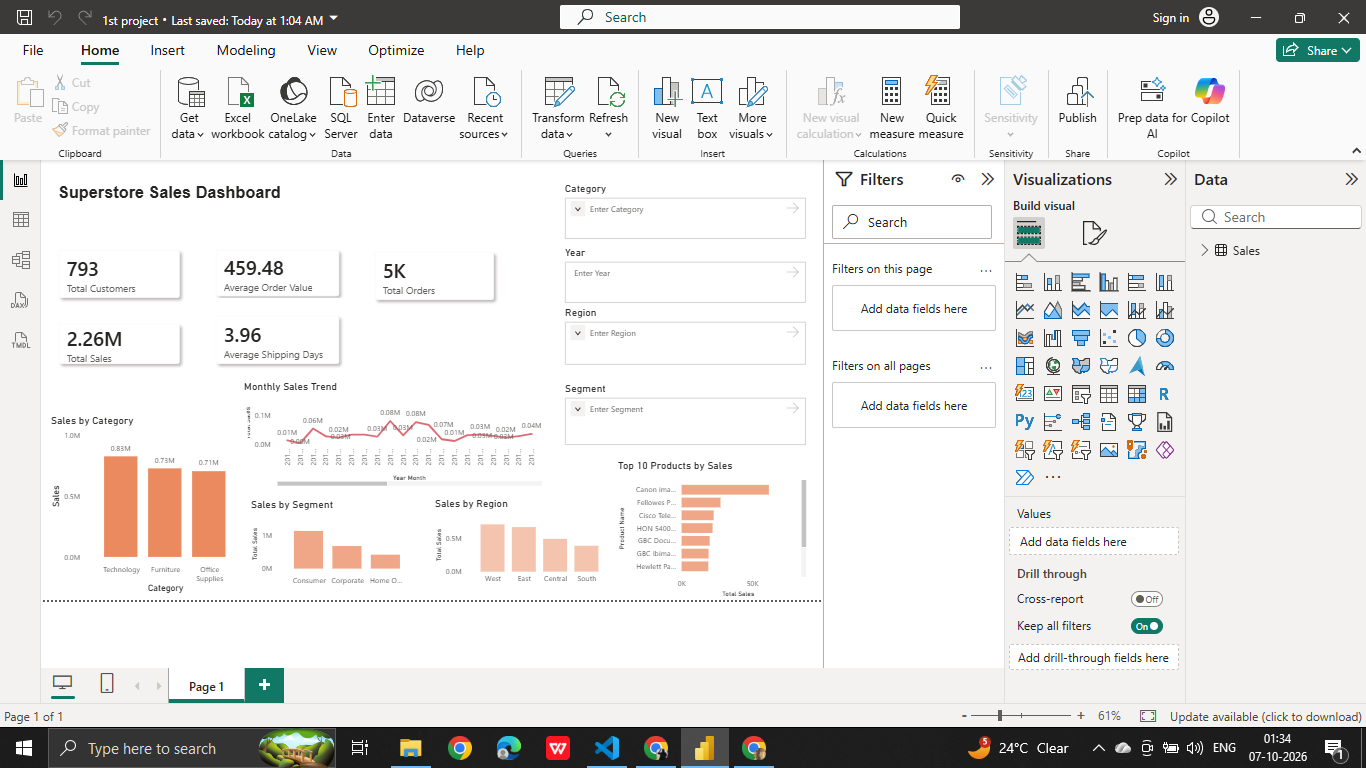

What the dashboard file says about the page in this screenshot:
{"tool":"powerbi","page":{"name":"Page 1","canvas":[1280,720],"ordinal":0},"visuals":[{"type":"cardVisual","fields":{"Data":["Sales.Total Sales"]},"box":[0,239,257,124.4],"z":0},{"type":"cardVisual","fields":{"Data":["Sales.Total Customers"]},"box":[0,117.9,257,137.5],"z":1000},{"type":"cardVisual","fields":{"Data":["Sales.Average Order Value"]},"box":[257,117.9,260.3,134.2],"z":2000},{"type":"cardVisual","fields":{"Data":["Sales.Average Shipping Days"]},"box":[257,225.9,260.3,137.5],"z":3000},{"type":"cardVisual","fields":{"Data":["Sales.Total Orders"]},"box":[517.2,121.1,253.7,137.5],"z":4000},{"type":"lineChart","title":"Monthly Sales Trend","fields":{"Category":["Sales.Year Month"],"Y":["Sales.Total Sales"]},"box":[327.4,360.1,497.6,178.4],"z":5000},{"type":"clusteredColumnChart","title":"Sales by Category","fields":{"Category":["Sales.Category"],"Y":["Sales.Total Sales"]},"box":[11.5,415.8,327.4,297.9],"z":6000},{"type":"clusteredColumnChart","title":"Sales by Region","fields":{"Category":["Sales.Region"],"Y":["Sales.Total Sales"]},"box":[640,551.6,299.5,152.2],"z":7000},{"type":"clusteredBarChart","title":"Top 10 Products by Sales","fields":{"Category":["Sales.Product Name"],"Y":["Sales.Total Sales"]},"box":[939.5,489.4,317.5,230.8],"z":8000},{"type":"clusteredColumnChart","title":"Sales by Segment","fields":{"Category":["Sales.Segment"],"Y":["Sales.Total Sales"]},"box":[338.8,553.2,281.5,150.6],"z":9000},{"type":"textSlicer","fields":{"Values":["Sales.Year"]},"box":[852.8,140.8,404.3,98.2],"z":10000},{"type":"textSlicer","fields":{"Values":["Sales.Region"]},"box":[852.8,239,404.3,101.5],"z":11000},{"type":"textSlicer","fields":{"Values":["Sales.Category"]},"box":[852.8,36,404.3,98.2],"z":12000},{"type":"textSlicer","fields":{"Values":["Sales.Segment"]},"box":[852.8,363.4,404.3,108],"z":13000},{"type":"textbox","box":[22.9,32.7,597.4,52.4],"z":14000}]}

Visuals, with their boxes on the page's 1280x720 design canvas (x1, y1, x2, y2). These are canvas units, not pixel positions in the 1366x768 screenshot, which may show the page scaled, cropped or inside an application window:
cardVisual - Sales.Total Sales: locate(0, 239, 257, 363)
cardVisual - Sales.Total Customers: locate(0, 118, 257, 255)
cardVisual - Sales.Average Order Value: locate(257, 118, 517, 252)
cardVisual - Sales.Average Shipping Days: locate(257, 226, 517, 363)
cardVisual - Sales.Total Orders: locate(517, 121, 771, 259)
"Monthly Sales Trend" lineChart: locate(327, 360, 825, 538)
"Sales by Category" clusteredColumnChart: locate(12, 416, 339, 714)
"Sales by Region" clusteredColumnChart: locate(640, 552, 940, 704)
"Top 10 Products by Sales" clusteredBarChart: locate(940, 489, 1257, 720)
"Sales by Segment" clusteredColumnChart: locate(339, 553, 620, 704)
textSlicer - Sales.Year: locate(853, 141, 1257, 239)
textSlicer - Sales.Region: locate(853, 239, 1257, 340)
textSlicer - Sales.Category: locate(853, 36, 1257, 134)
textSlicer - Sales.Segment: locate(853, 363, 1257, 471)
textbox: locate(23, 33, 620, 85)
